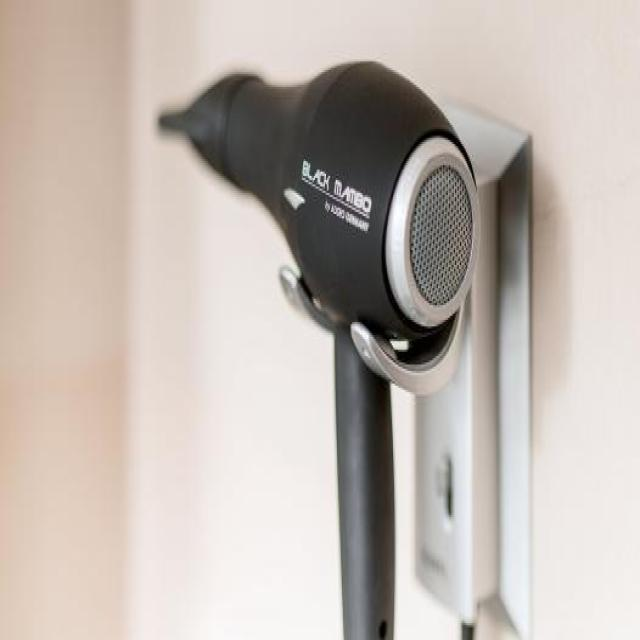dryer: (162, 21, 504, 640)
